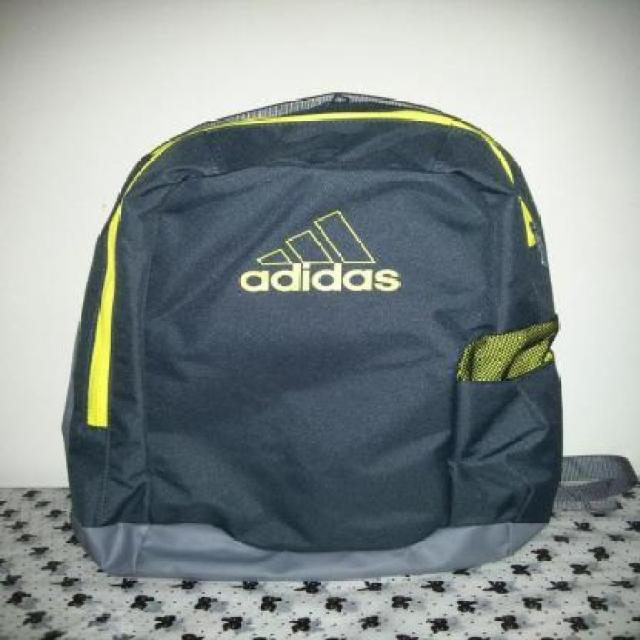backpack: (57, 86, 569, 585)
